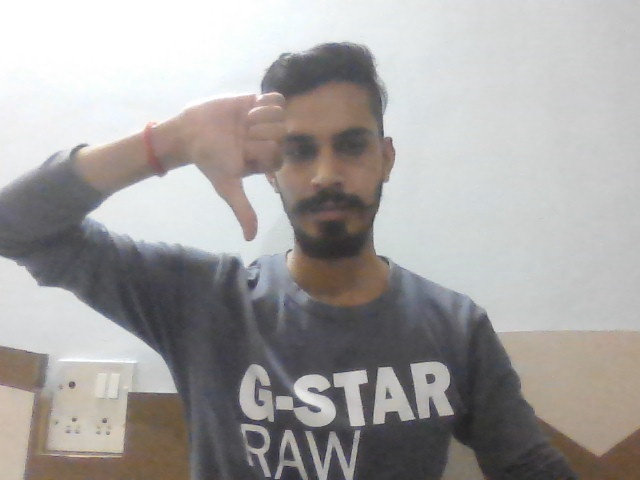ThumbsDown: (187, 91, 287, 245)
